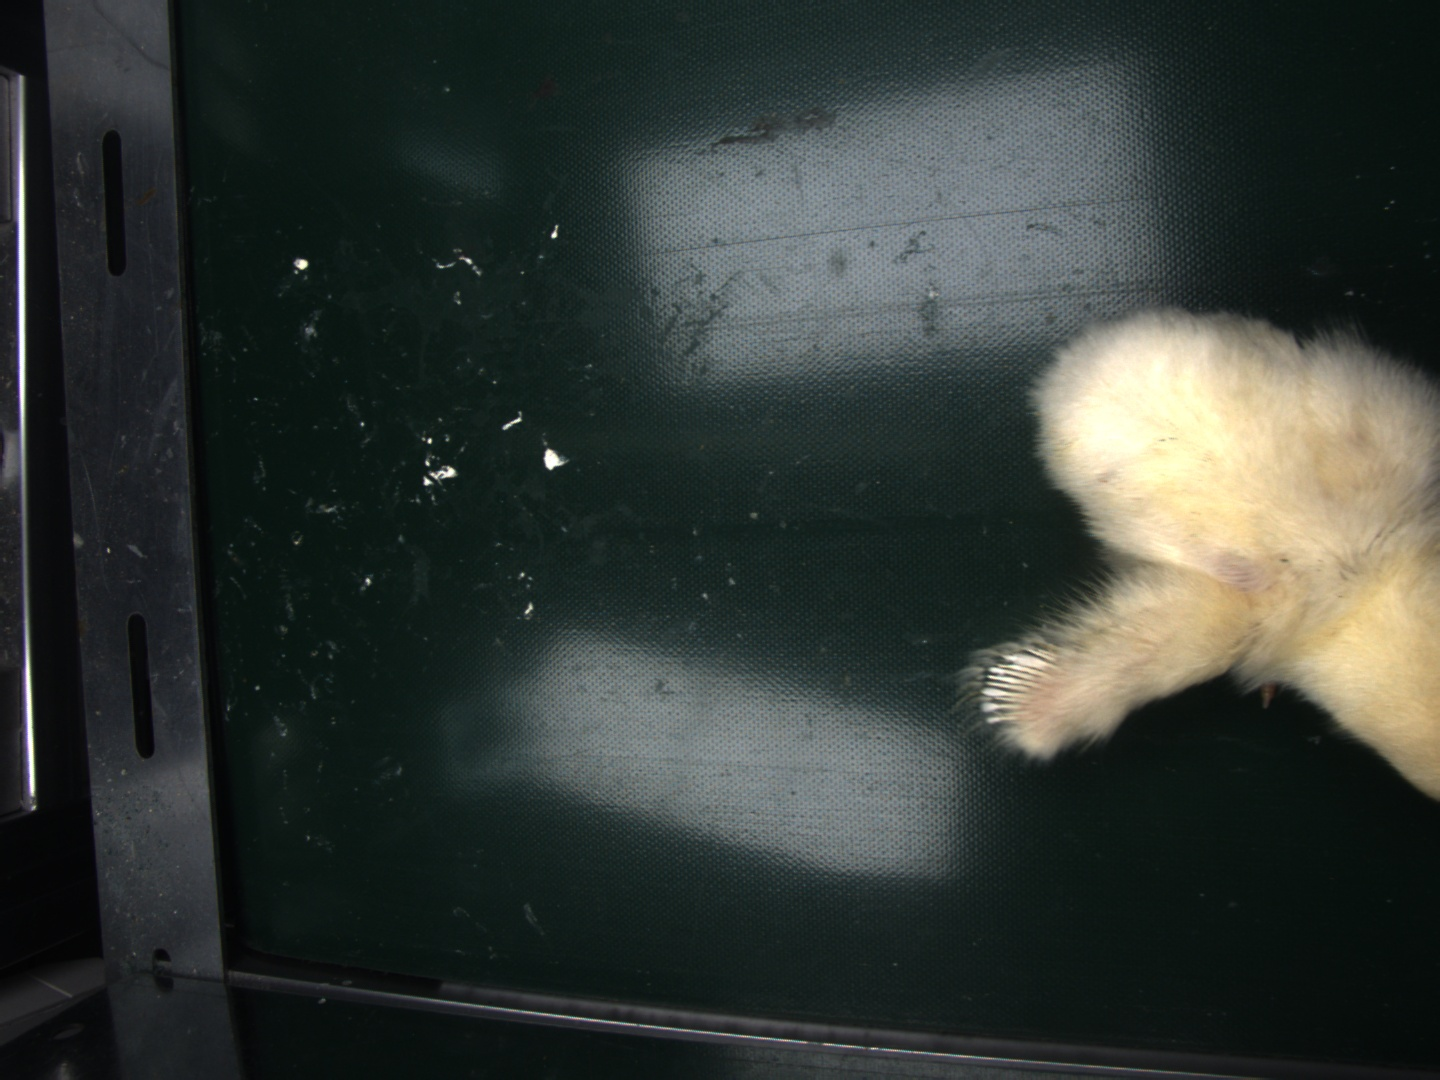male: (981, 647, 1054, 727)
